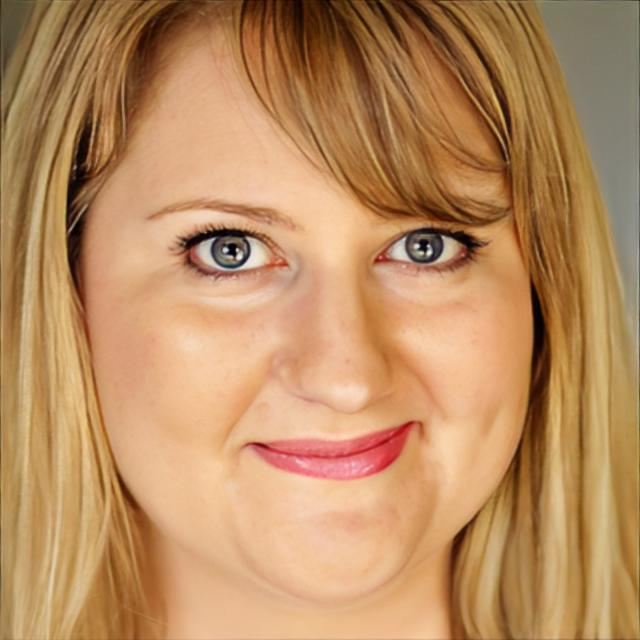happy: (91, 28, 532, 596)
